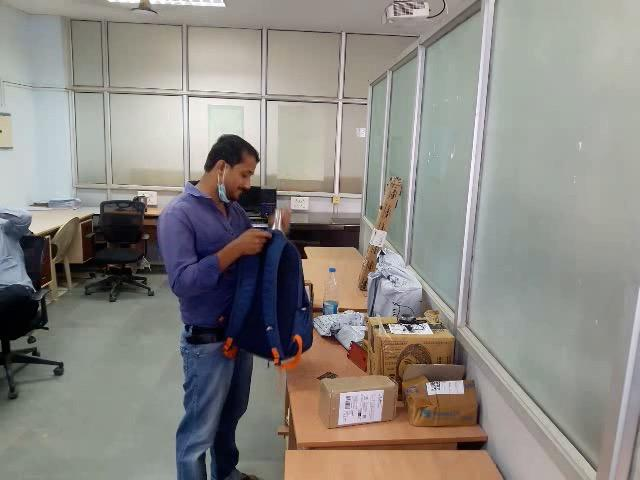shoplifting: (129, 194, 426, 378)
